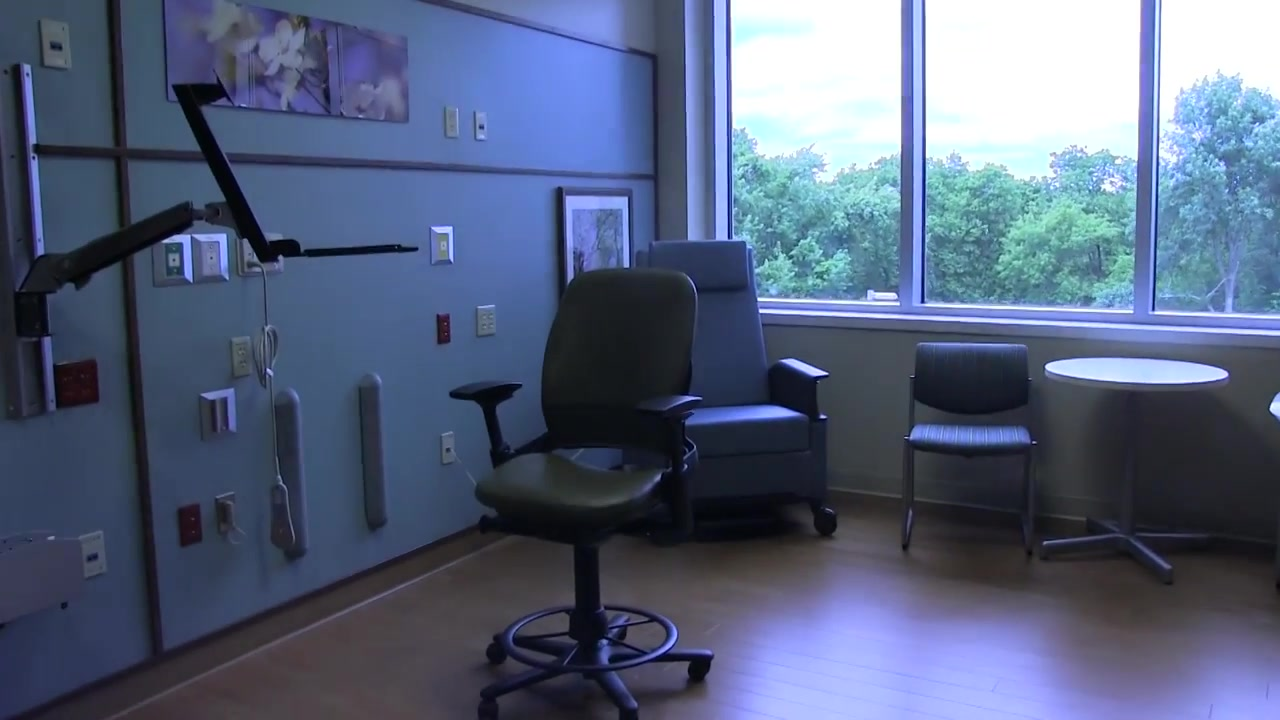chair: (449, 267, 713, 720), (900, 340, 1039, 556)
sofa: (635, 241, 838, 545)
table: (1041, 357, 1229, 585)
